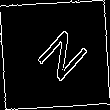N_SW: (23, 23, 87, 87)
